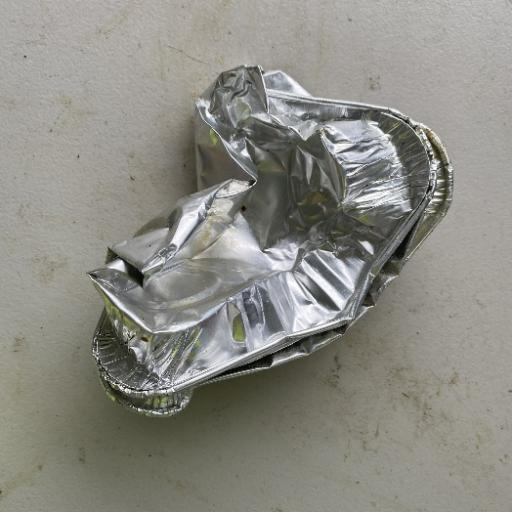Metal: (85, 63, 454, 417)
